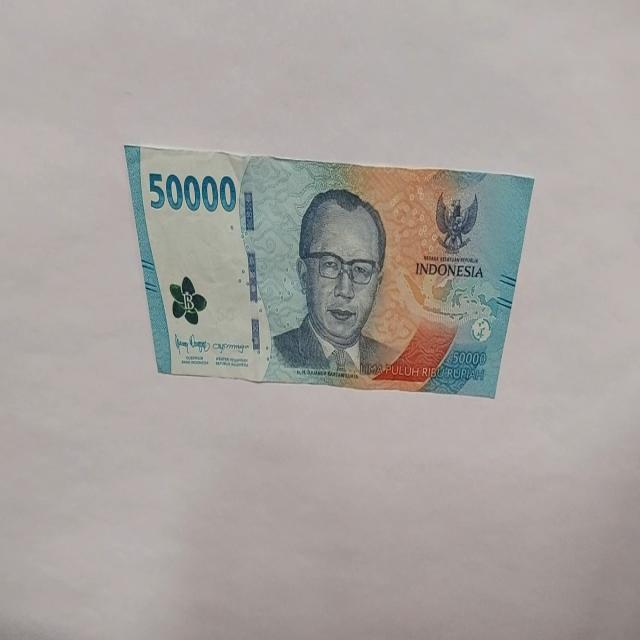lima puluh ribu rupiah: (122, 142, 536, 398), (270, 185, 398, 378), (147, 169, 237, 214)
